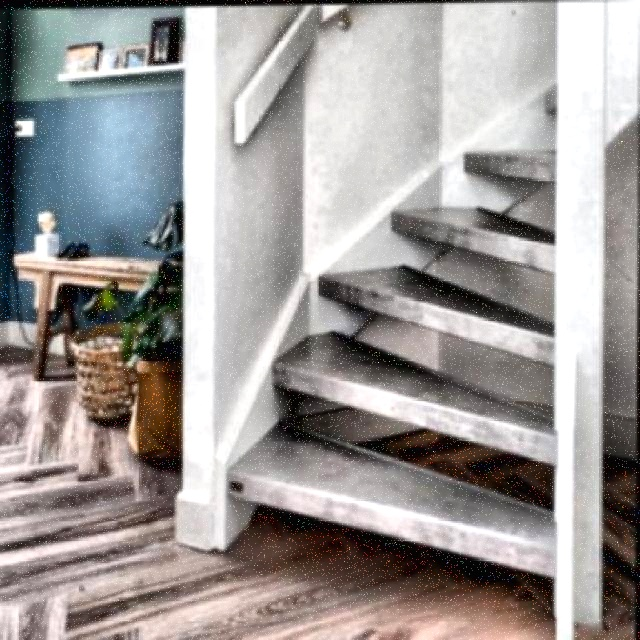stair: (222, 125, 638, 495)
